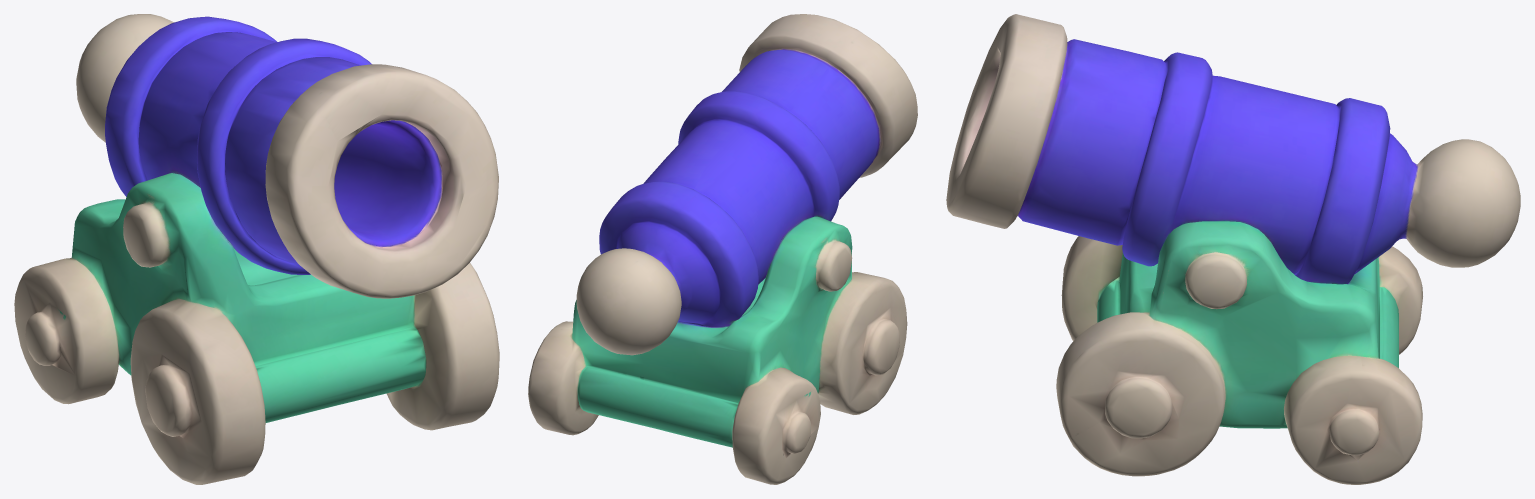
File: cannon.glb
The picture shows the model from 3 angles, left to right: view 1: azimuth 30°, elevation 25°; view 2: azimuth 150°, elevation 25°; view 3: azimuth 270°, elevation 25°; orthographic projection. The views are drawn at different scales.
Parts seen in each view (by area): view 1: carriage, barrel; view 2: barrel, carriage; view 3: barrel, carriage.
Part boxes in pixels (<box>): carriage: <box>14,173,499,484</box>; barrel: <box>76,14,498,298</box>; barrel: <box>576,14,917,355</box>; carriage: <box>528,216,907,484</box>; barrel: <box>946,14,1520,284</box>; carriage: <box>1056,221,1422,484</box>.
Size of the model in its own units: 1.78 by 2.2 by 2.93.
2 materials, 2 textured.
